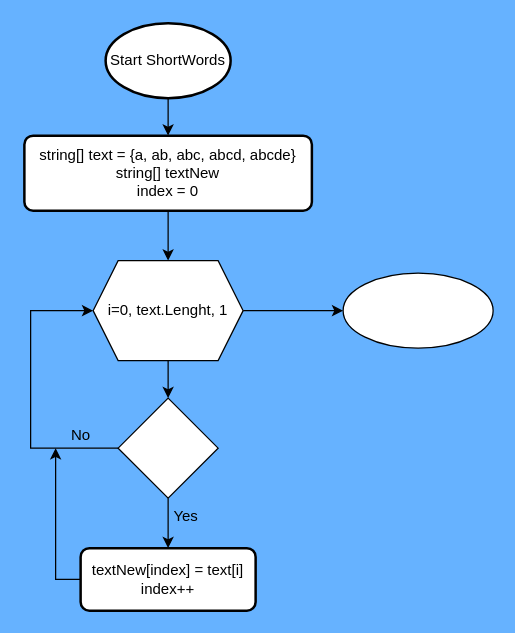
This 515x633 diagram has some shape labels left out. Here are the shapes that lost their labels. From the top down, the box of each, then its label:
(342, 272, 493, 348): End
(117, 397, 218, 498): text[i] <= 3
